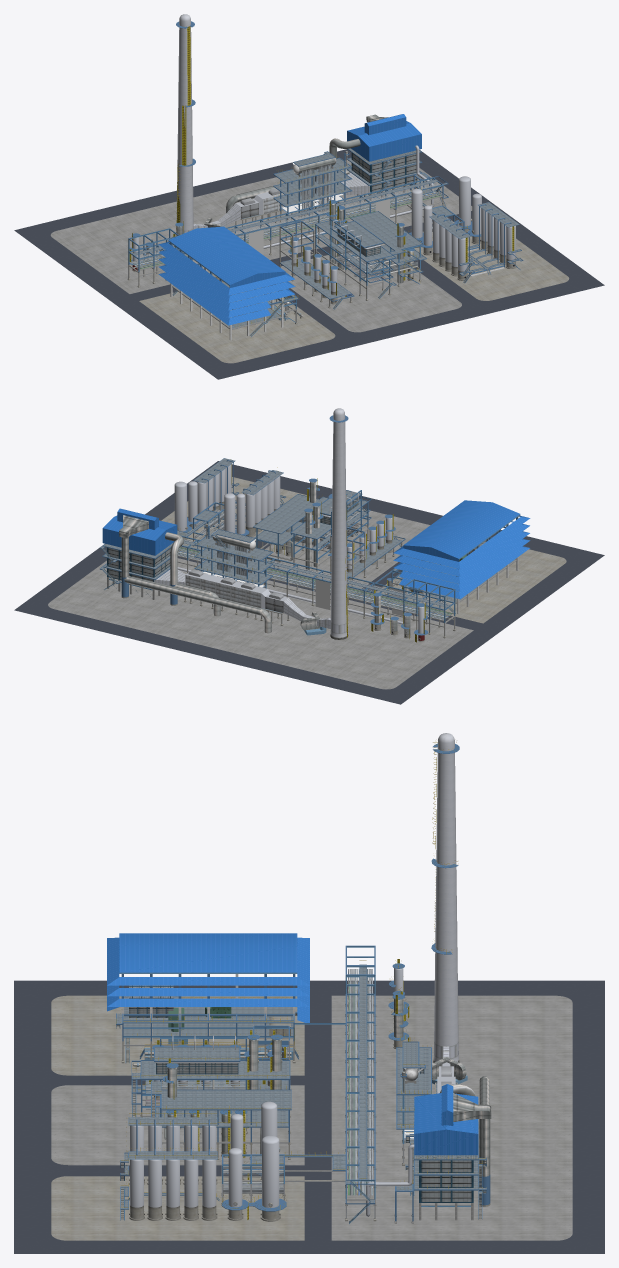
The model's file is Refinery.FBX.
3 renders of one model, top to bottom at view 1: azimuth 30°, elevation 25°; view 2: azimuth 150°, elevation 25°; view 3: azimuth 270°, elevation 25°, orthographic. The views are drawn at different scales.
Visible parts, largest first — view 1: Refinery42, Refinery39, Refinery01, Refinery30, Refinery04, Refinery03, Refinery20, Refinery07, Refinery08, Refinery25, Refinery13, Refinery15; view 2: Refinery42, Refinery39, Refinery01, Refinery04, Refinery30, Refinery07, Refinery03, Refinery20, Refinery08, Refinery06, Refinery13, Refinery25 (+4 smaller); view 3: Refinery42, Refinery39, Refinery30, Refinery04, Refinery03, Refinery01, Refinery07, Refinery13, Refinery20, Refinery14, Refinery15, Refinery25 (+2 smaller).
Boxes of the visible parts, <box> form: Refinery42: <box>14,149,604,379</box>; Refinery39: <box>158,226,299,340</box>; Refinery01: <box>127,176,448,287</box>; Refinery30: <box>315,211,426,300</box>; Refinery04: <box>347,114,430,205</box>; Refinery03: <box>429,202,523,283</box>; Refinery20: <box>273,151,352,230</box>; Refinery07: <box>176,14,195,232</box>; Refinery08: <box>193,172,370,229</box>; Refinery25: <box>279,220,354,309</box>; Refinery13: <box>454,176,481,244</box>; Refinery15: <box>408,188,432,255</box>; Refinery42: <box>14,461,604,704</box>; Refinery39: <box>391,500,530,614</box>; Refinery01: <box>177,535,455,638</box>; Refinery04: <box>99,508,177,599</box>; Refinery30: <box>253,490,371,577</box>; Refinery07: <box>328,408,349,639</box>; Refinery03: <box>193,458,285,536</box>; Refinery20: <box>194,523,273,588</box>; Refinery08: <box>154,569,330,635</box>; Refinery06: <box>124,576,271,633</box>; Refinery13: <box>174,481,200,539</box>; Refinery25: <box>330,527,405,586</box>; Refinery42: <box>14,980,604,1253</box>; Refinery39: <box>107,933,309,1063</box>; Refinery30: <box>131,1035,291,1159</box>; Refinery04: <box>394,1084,491,1223</box>; Refinery03: <box>120,1113,219,1220</box>; Refinery01: <box>345,945,376,1223</box>; Refinery07: <box>431,733,459,1062</box>; Refinery13: <box>222,1135,286,1221</box>; Refinery20: <box>396,1037,431,1165</box>; Refinery14: <box>221,1151,345,1205</box>; Refinery15: <box>224,1101,283,1183</box>; Refinery25: <box>136,1025,290,1105</box>.
Size of the model in its own units: 136 by 76.69 by 124.
